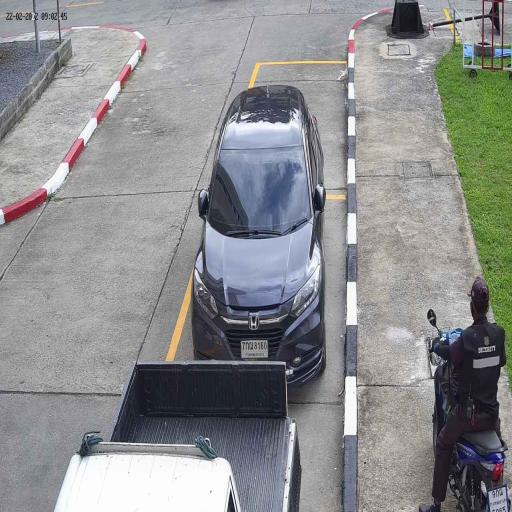car: (191, 86, 326, 390), (55, 362, 303, 511)
motorcycle: (448, 427, 512, 512)
